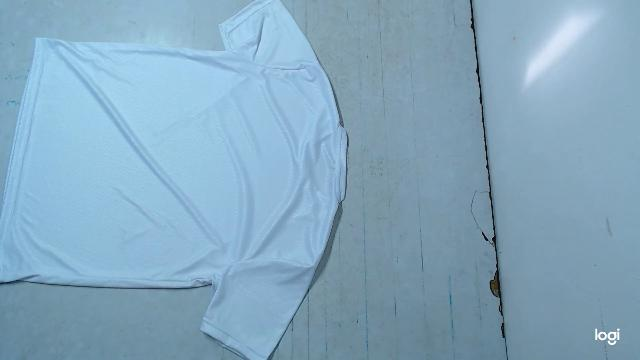new-garment: (0, 0, 347, 360)
